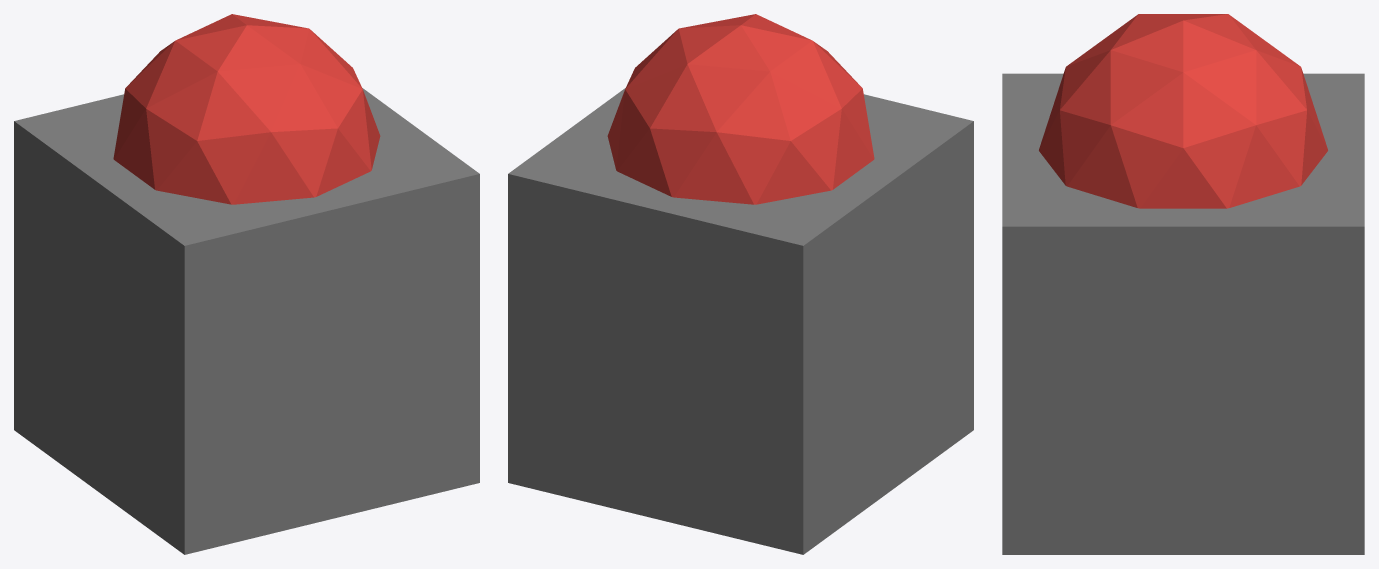
The model's file is oreSwitch.obj.
The picture shows the model from 3 angles, left to right: view 1: azimuth 30°, elevation 25°; view 2: azimuth 150°, elevation 25°; view 3: azimuth 270°, elevation 25°; orthographic projection. The views are drawn at different scales.
Visible parts, largest first — view 1: ICO球; view 2: ICO球; view 3: ICO球.
Boxes of the visible parts, box(x1,y1,x2,y2) form: ICO球: box(14, 14, 479, 554); ICO球: box(508, 14, 973, 554); ICO球: box(1002, 14, 1364, 554).
Bounding box in the file's own units: 0.9505 × 1.33 × 0.9505.
1 material, 1 textured.
